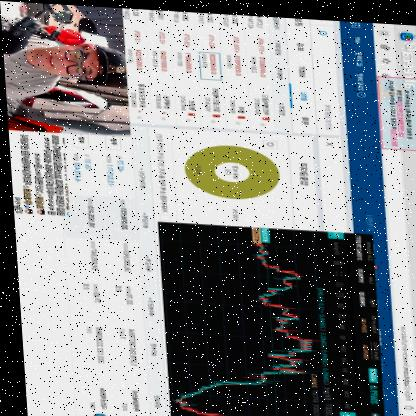streamer: (0, 10, 128, 106)
